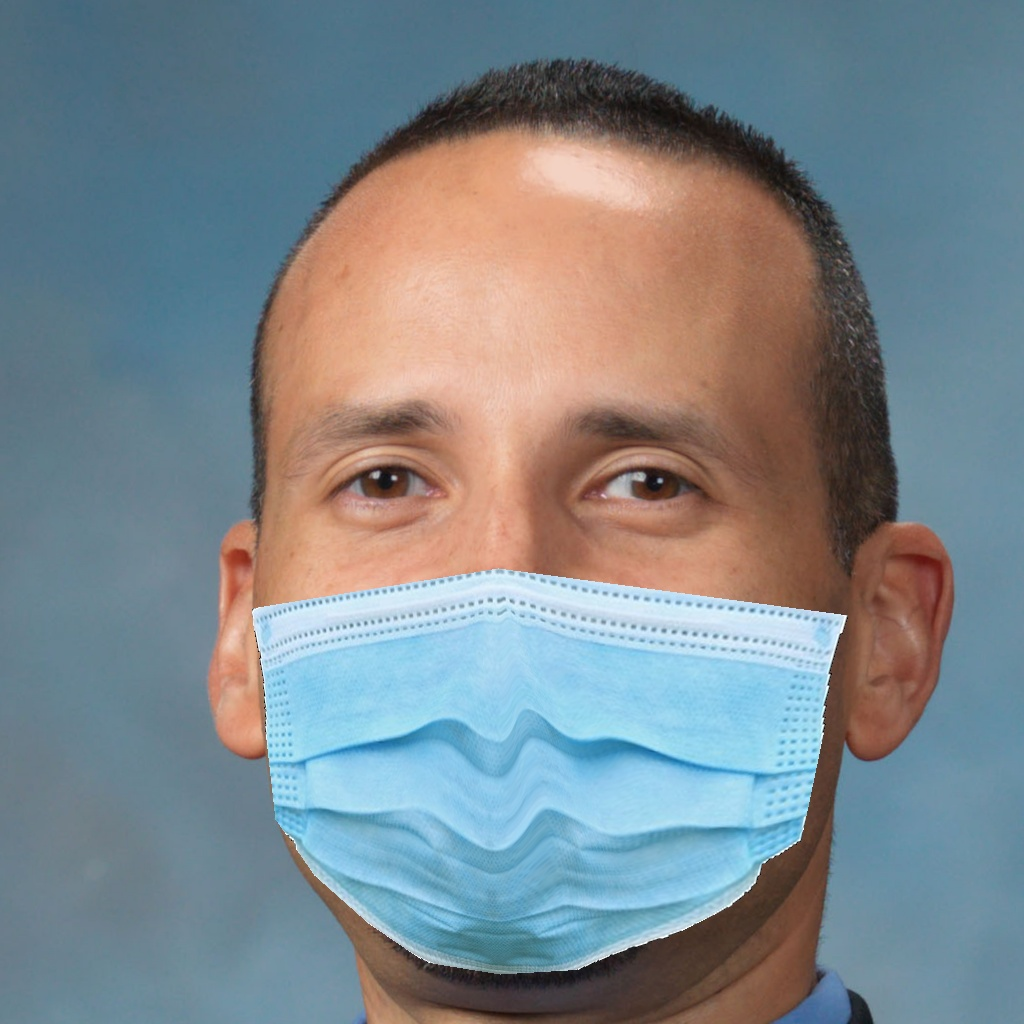Mask: (253, 339, 855, 975)
